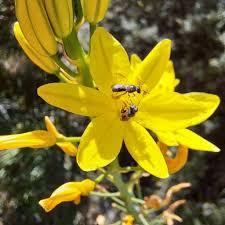Lasioglossum: (106, 78, 150, 96), (117, 101, 141, 126)
